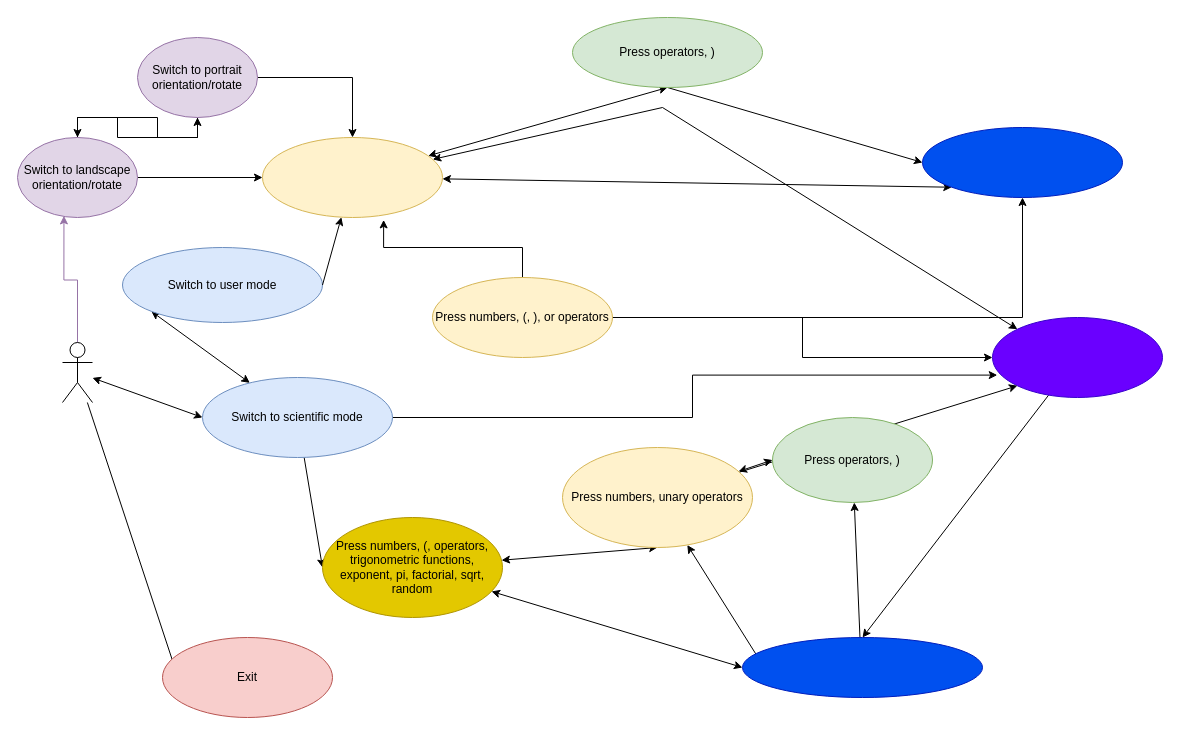
Some shapes in this 1180 by 735 pixel diagram are drawn without their labels. Here are the shapes that lost their labels. From the top down, the centre of each, then its label:
At pixel 352 177: "Press numbers, (, or - operators".
At pixel 1022 162: "Press backspace".
At pixel 77 372: "User".
At pixel 1077 357: "Get an answer".
At pixel 862 667: "Press bakcspace".
